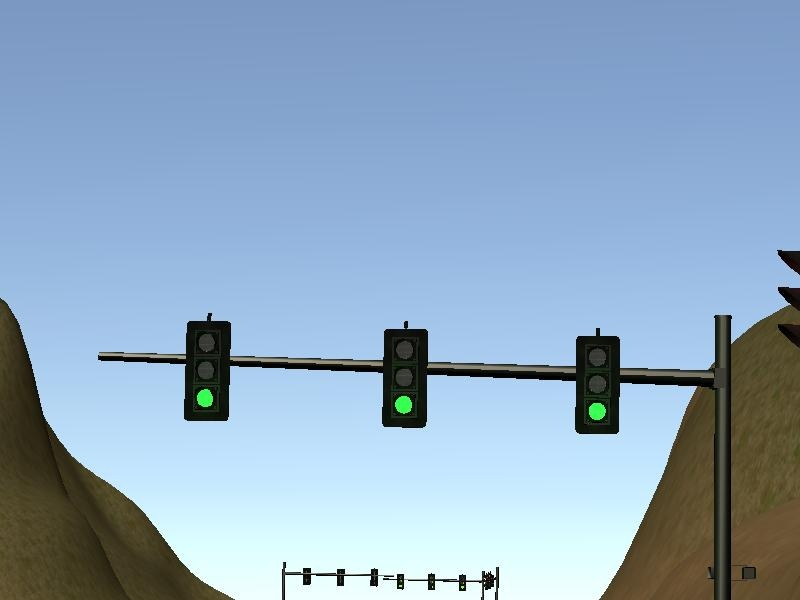traffic_light_green: (145, 308, 711, 438)
